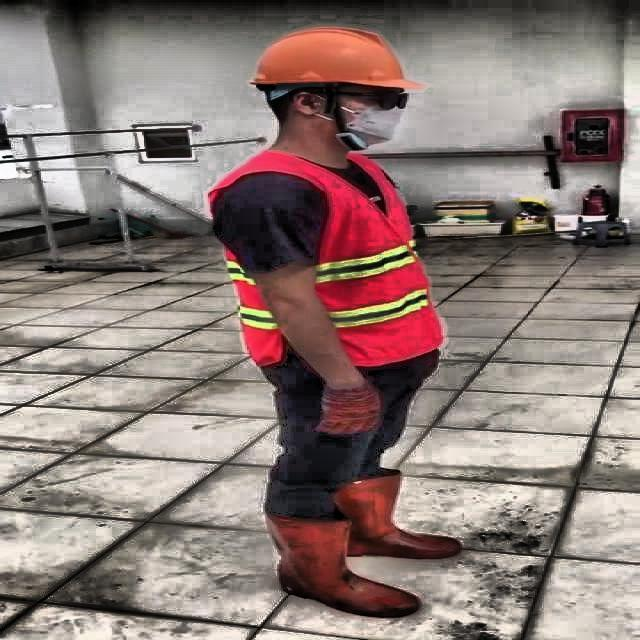safety_helmet: (241, 27, 426, 97)
safety_jacket: (207, 150, 443, 364)
